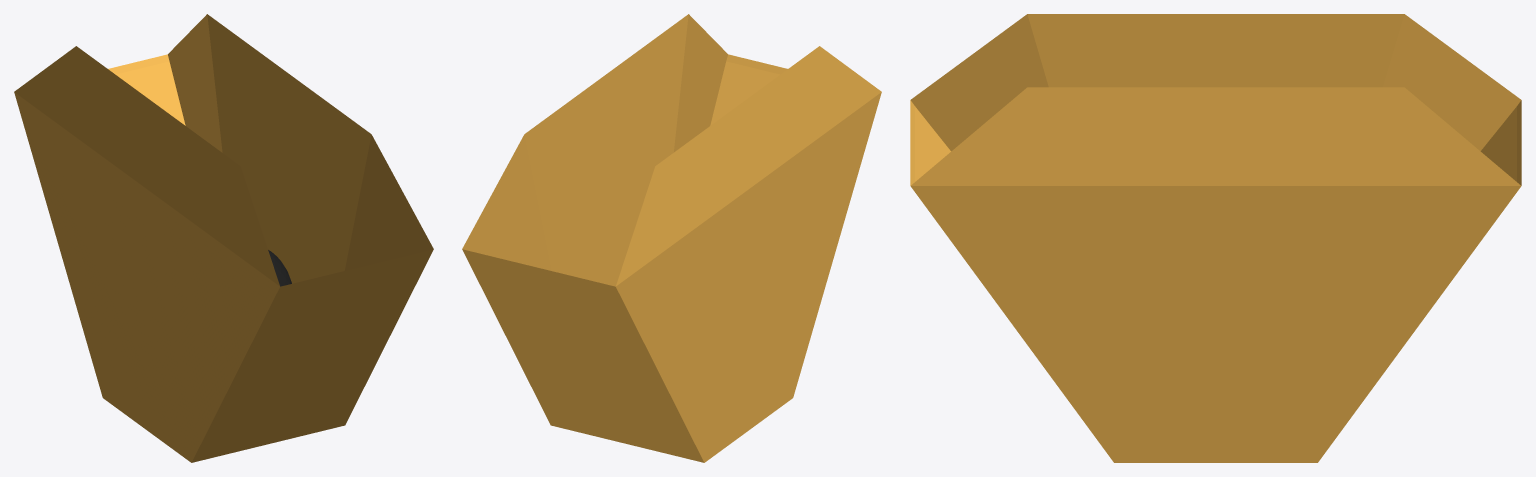
File: Skip.obj
The picture shows the model from 3 angles, left to right: view 1: azimuth 30°, elevation 25°; view 2: azimuth 150°, elevation 25°; view 3: azimuth 270°, elevation 25°; orthographic projection. The views are drawn at different scales.
Visible parts, largest first — view 1: Cube; view 2: Cube; view 3: Cube.
Boxes of the visible parts, left/top/right/bottom form: Cube: left=14, top=14, right=433, bottom=462; Cube: left=462, top=14, right=881, bottom=462; Cube: left=910, top=14, right=1521, bottom=462.
Size of the model in its own units: 2 by 4.02 by 6.
